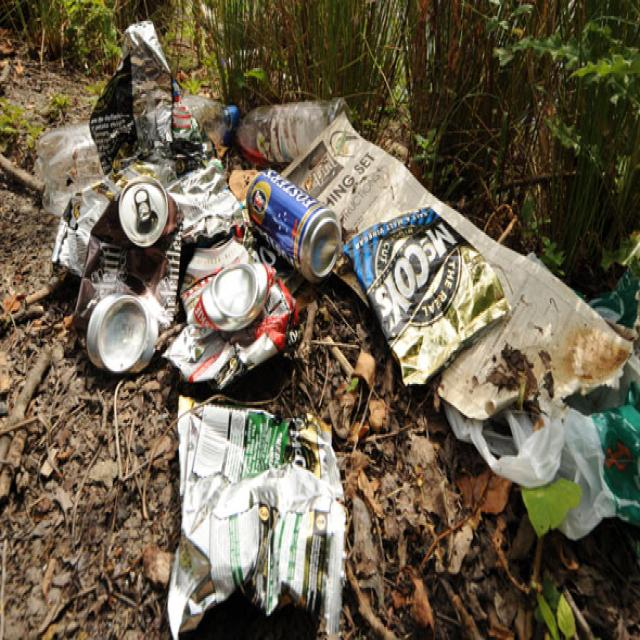garbage: (42, 30, 638, 628)
